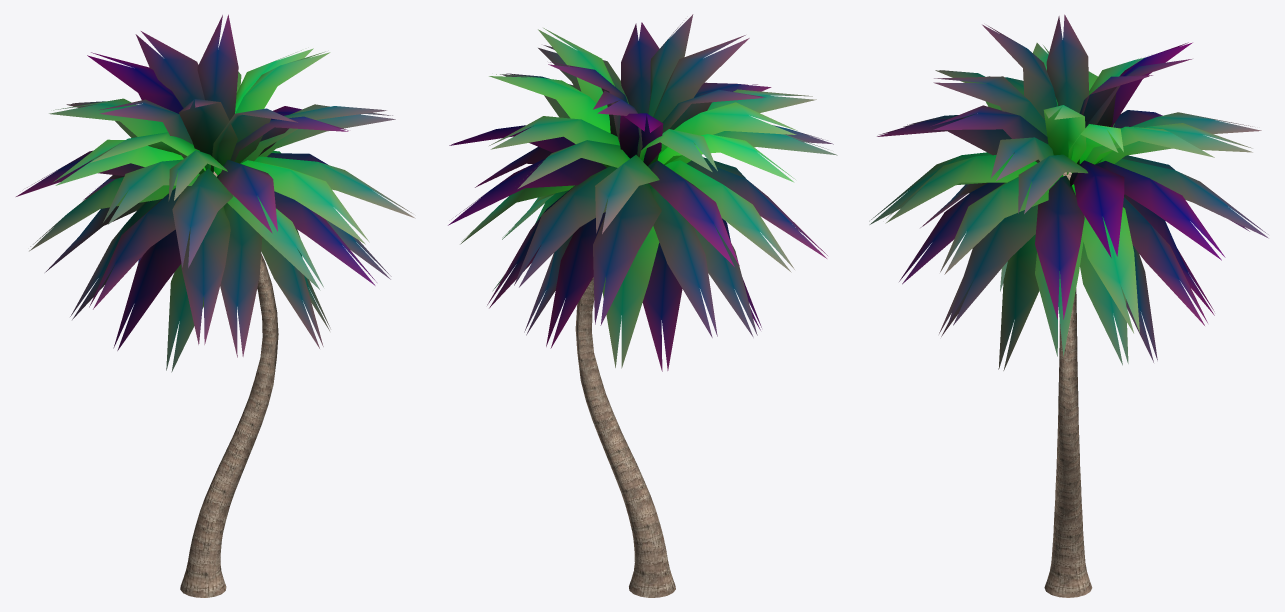
The model's file is Palm_6.fbx.
3 renders of one model, left to right at view 1: azimuth 30°, elevation 25°; view 2: azimuth 150°, elevation 25°; view 3: azimuth 270°, elevation 25°, orthographic. The views are drawn at different scales.
Parts seen in each view (by area): view 1: palm_leaf_2_5_1, palm_trunk_6_0; view 2: palm_leaf_2_5_1, palm_trunk_6_0; view 3: palm_leaf_2_5_1, palm_trunk_6_0.
Boxes of the visible parts, bbox=[...] form: palm_leaf_2_5_1: bbox=[16, 14, 415, 372]; palm_trunk_6_0: bbox=[180, 171, 278, 597]; palm_leaf_2_5_1: bbox=[448, 14, 837, 371]; palm_trunk_6_0: bbox=[575, 277, 675, 597]; palm_leaf_2_5_1: bbox=[869, 14, 1268, 370]; palm_trunk_6_0: bbox=[1044, 172, 1092, 597].
Bounding box in the file's own units: 653 × 985 × 662.
Materials: 1 (1 with a texture image).
